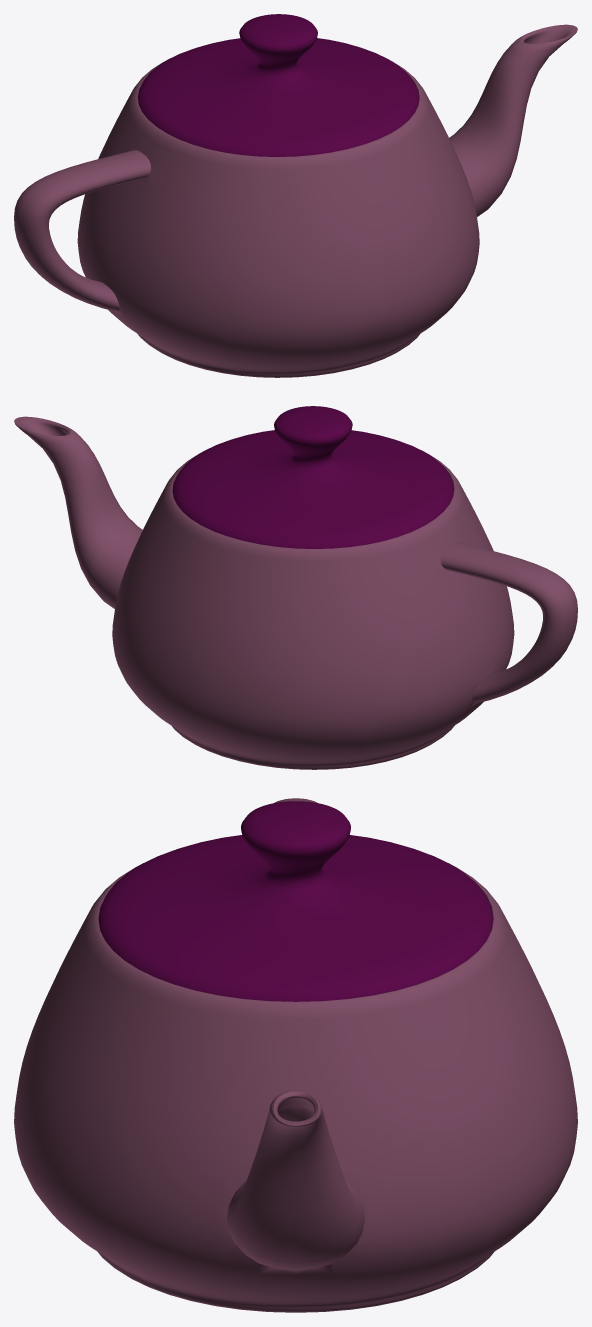
Rendered from TeapotToBe.glb.
The picture shows the model from 3 angles, top to bottom: view 1: azimuth 30°, elevation 25°; view 2: azimuth 150°, elevation 25°; view 3: azimuth 270°, elevation 25°; orthographic projection. The views are drawn at different scales.
Parts seen in each view (by area): view 1: Object_3, Object_2; view 2: Object_3, Object_2; view 3: Object_3, Object_2.
Part boxes in pixels (x1,y1,x2,y2): Object_3: (14,24,577,377); Object_2: (138,14,419,156); Object_3: (14,416,577,769); Object_2: (172,406,453,548); Object_3: (14,798,577,1312); Object_2: (98,801,493,1001).
Size of the model in its own units: 6.89 by 3.53 by 4.28.
